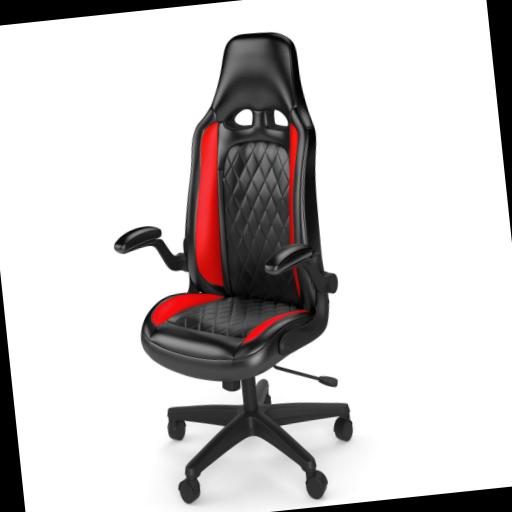chair: (93, 27, 360, 512)
